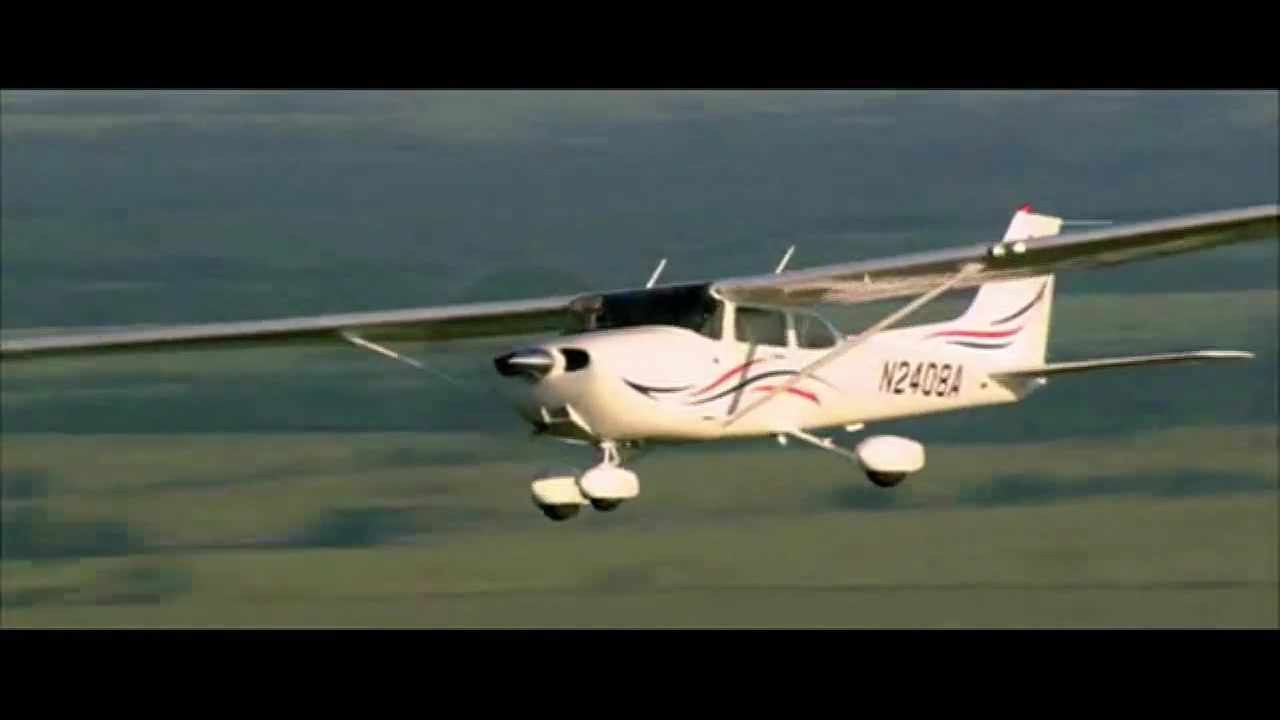aeroplane: (2, 188, 1278, 523)
